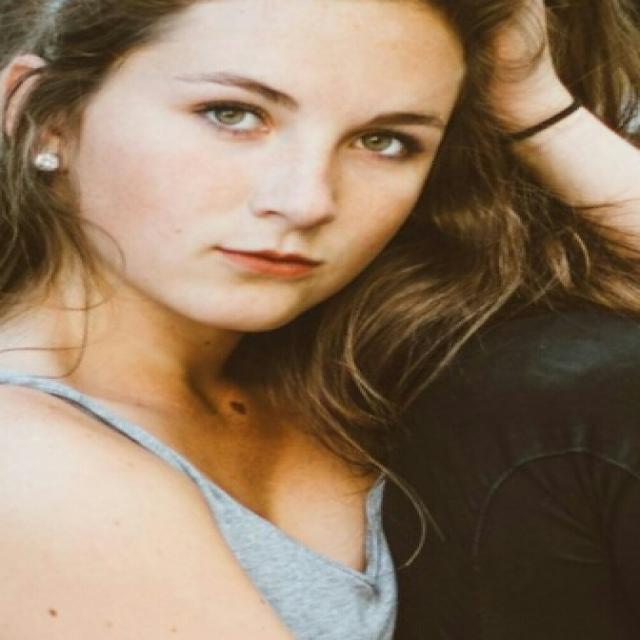front: (148, 48, 472, 283)
